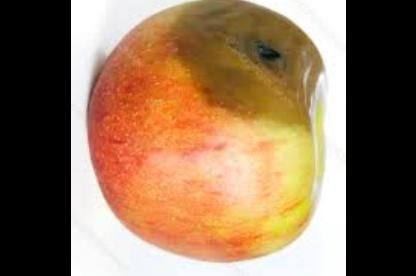defect: (157, 0, 332, 146)
